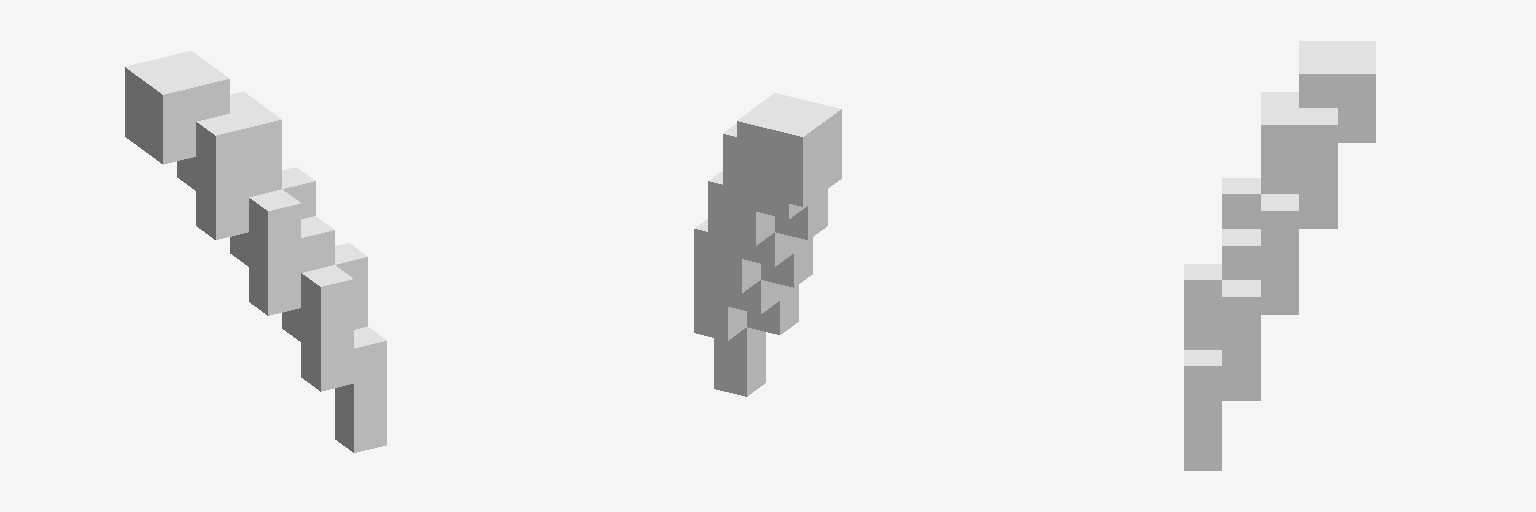
The model's file is Enemy1-11.obj.
3 renders of one model, left to right at view 1: azimuth 30°, elevation 25°; view 2: azimuth 150°, elevation 25°; view 3: azimuth 270°, elevation 25°, orthographic.
Parts seen in each view (by area): view 1: object 1; view 2: object 1; view 3: object 1.
Boxes of the visible parts, x1,y1,x2,y2 form: object 1: [125, 51, 386, 452]; object 1: [694, 93, 841, 396]; object 1: [1184, 41, 1375, 470].
Bounding box in the file's own units: 0.5 × 1 × 0.5.